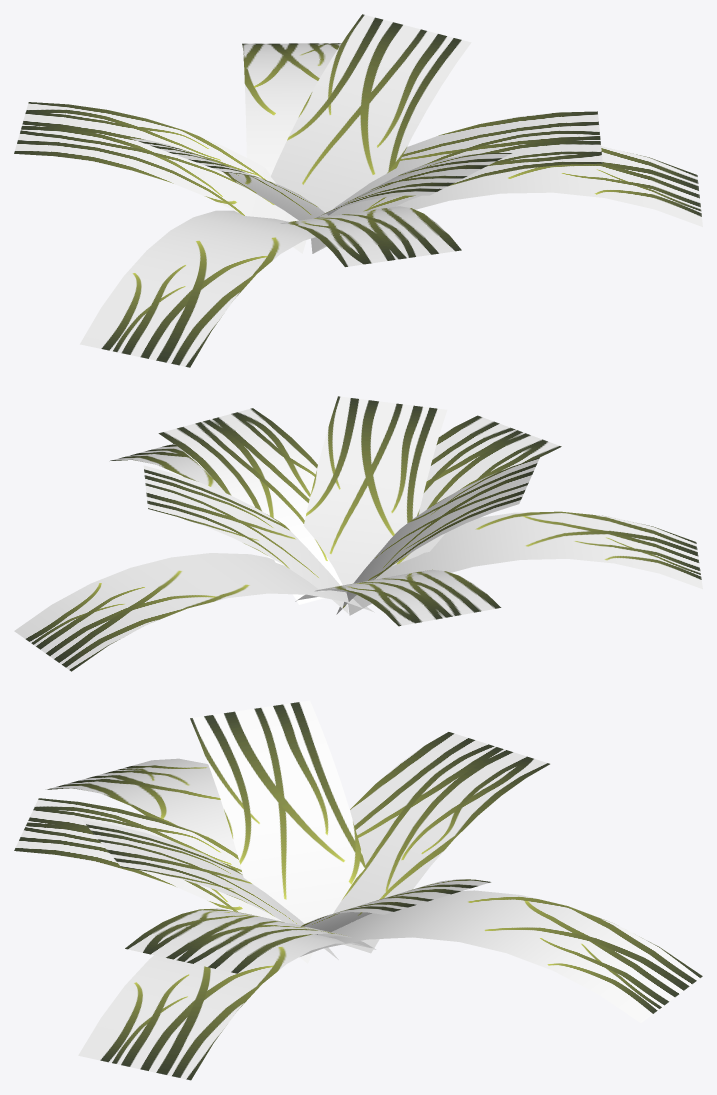
The model's file is fern.fbx.
The picture shows the model from 3 angles, top to bottom: view 1: azimuth 30°, elevation 25°; view 2: azimuth 150°, elevation 25°; view 3: azimuth 270°, elevation 25°; orthographic projection. The views are drawn at different scales.
Visible parts, largest first — view 1: polySurface41; view 2: polySurface41; view 3: polySurface41.
Part boxes in pixels (box(x1,y1,x2,y2)): polySurface41: box(14, 14, 702, 367); polySurface41: box(14, 396, 702, 671); polySurface41: box(14, 700, 702, 1080).
Bounding box in the file's own units: 23.45 × 4.97 × 21.32.
